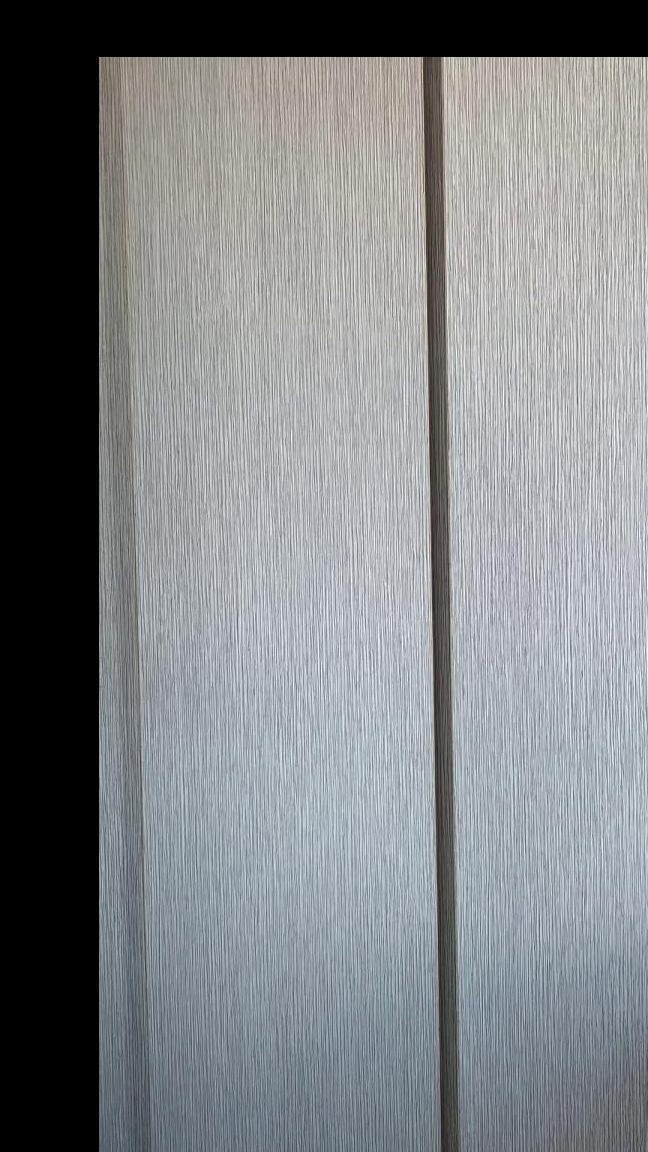Armario: (109, 66, 648, 1152)
